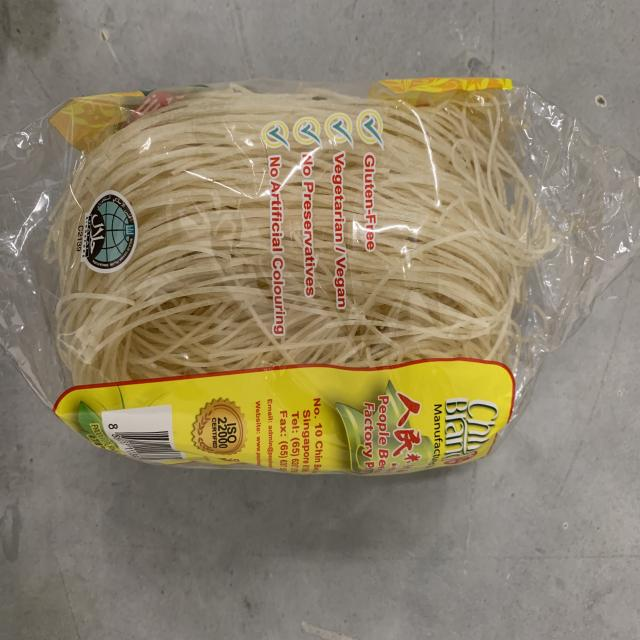object_name: (31, 96, 532, 452)
